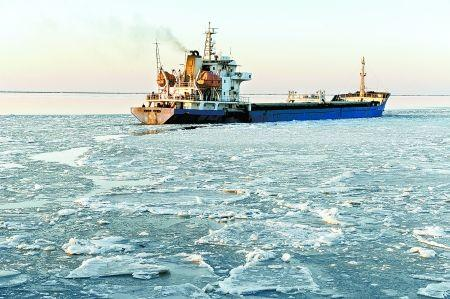Cargoship: (134, 27, 395, 127)
